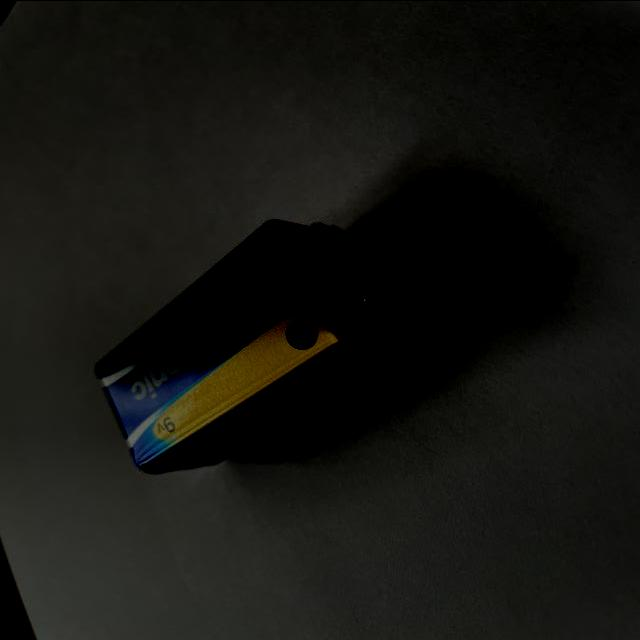9V: (93, 216, 426, 473)
